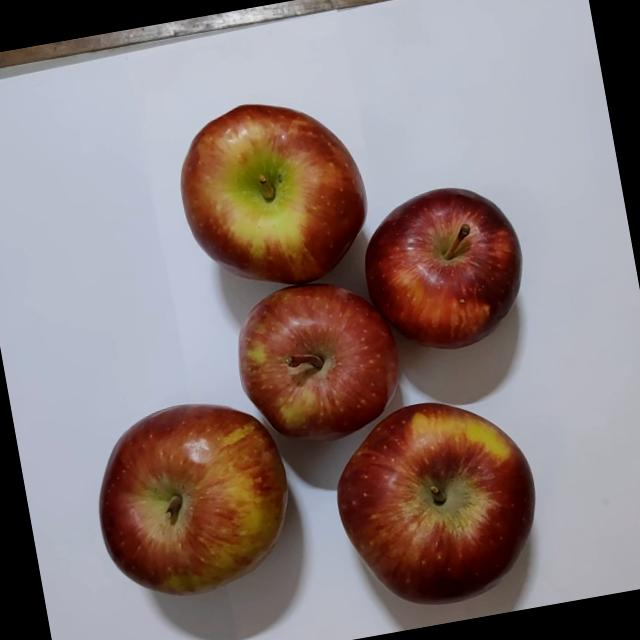apple: (312, 374, 566, 628), (72, 376, 316, 630), (152, 81, 386, 312), (218, 262, 414, 456), (350, 170, 538, 364)
